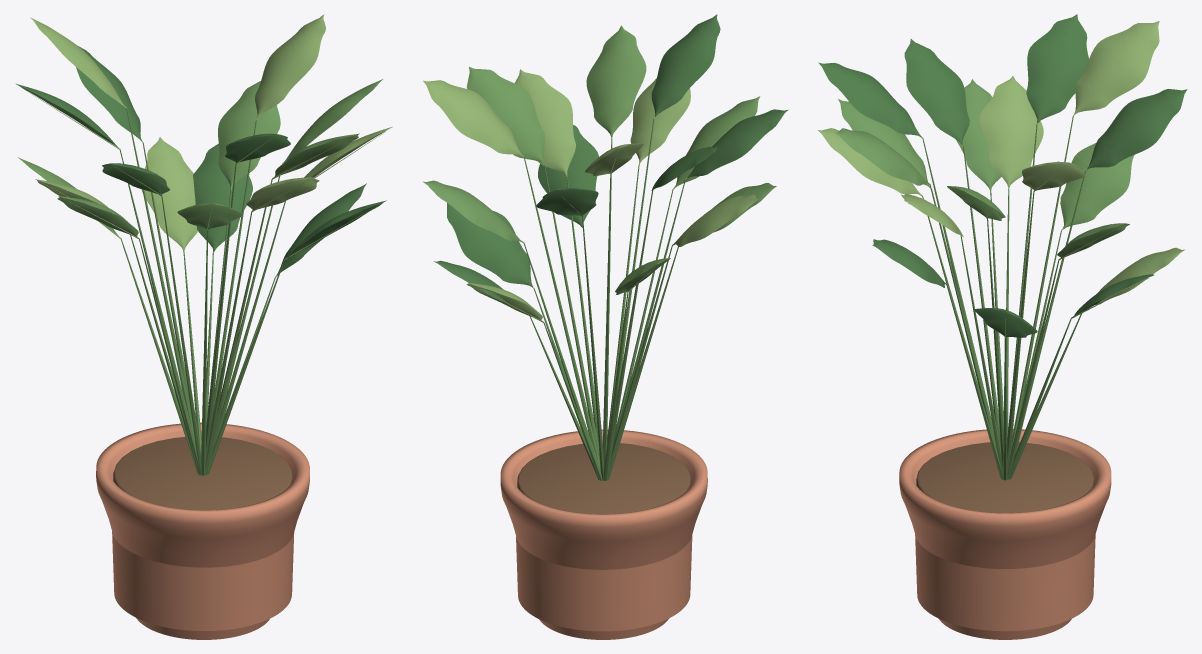
Rendered from small-plant.glb.
3 views of the same model, side by side, from view 1: azimuth 30°, elevation 25°; view 2: azimuth 150°, elevation 25°; view 3: azimuth 270°, elevation 25° (orthographic). The views are drawn at different scales.
Visible parts, largest first — view 1: catalog_surface_RealismUV; view 2: catalog_surface_RealismUV; view 3: catalog_surface_RealismUV.
Boxes of the visible parts, x1,y1,x2,y2 form: catalog_surface_RealismUV: (15, 14, 392, 639); catalog_surface_RealismUV: (423, 14, 788, 639); catalog_surface_RealismUV: (818, 14, 1187, 639).
Bounding box in the file's own units: 0.32 × 0.52 × 0.32.
